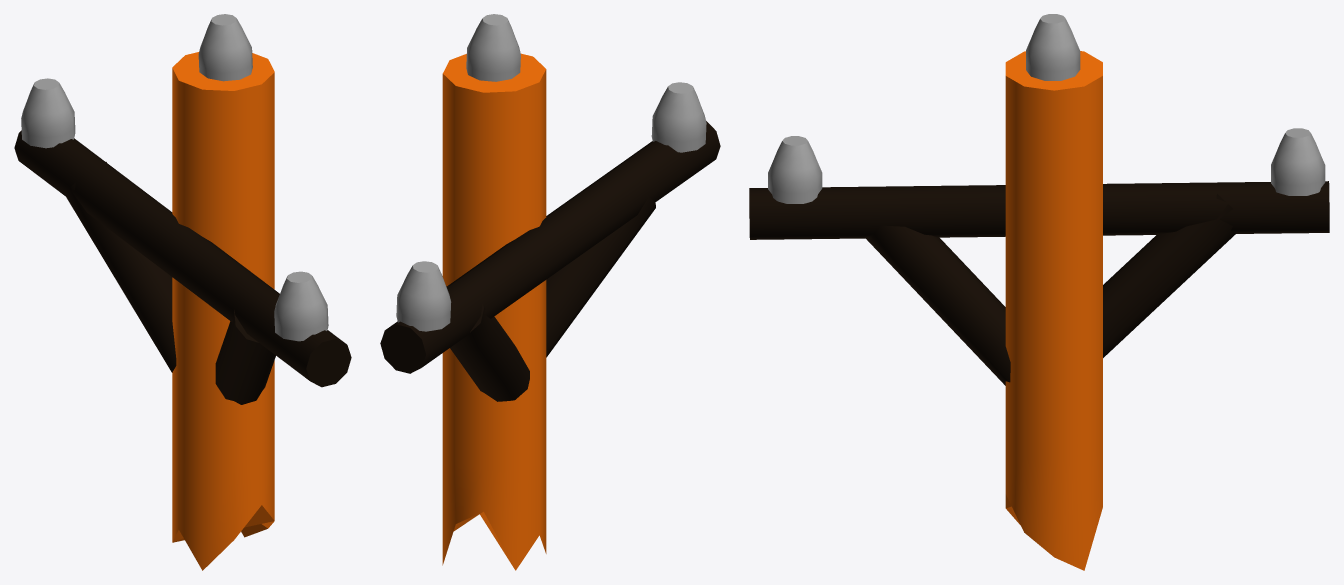
The model's file is Poste reventao 1.fbx.
3 views of the same model, side by side, from view 1: azimuth 30°, elevation 25°; view 2: azimuth 150°, elevation 25°; view 3: azimuth 270°, elevation 25° (orthographic).
Parts seen in each view (by area): view 1: Cylinder001; view 2: Cylinder001; view 3: Cylinder001.
Part boxes in pixels (bbox=[...]): Cylinder001: bbox=[14, 14, 351, 570]; Cylinder001: bbox=[380, 14, 720, 570]; Cylinder001: bbox=[749, 14, 1329, 570].
Size of the model in its own units: 24.13 by 103 by 102.
